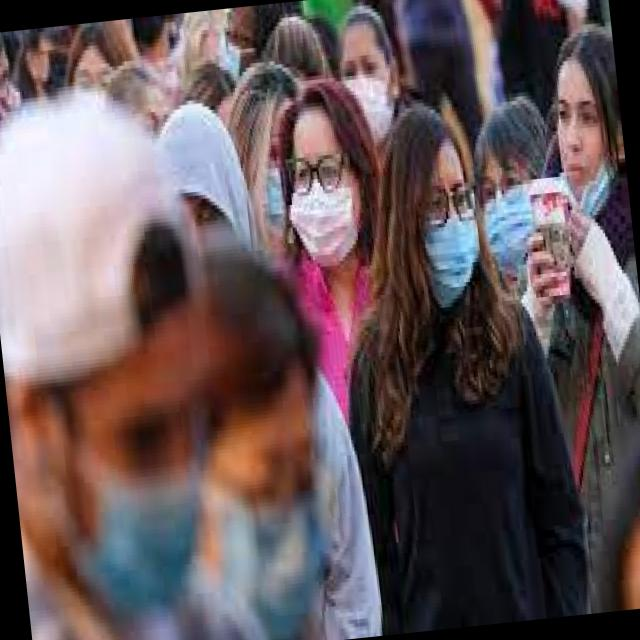Jacket: (330, 250, 611, 637), (514, 171, 640, 616)
